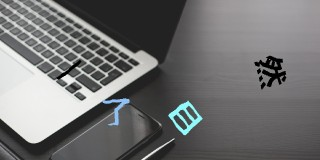一: (56, 59, 82, 80)
了: (103, 97, 129, 126)
然: (253, 55, 287, 90)
目: (167, 100, 203, 136)
